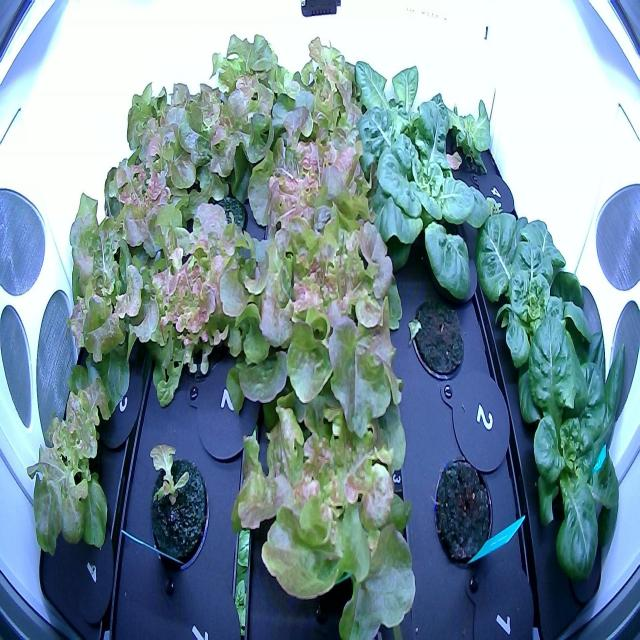pod: (425, 447, 500, 581), (405, 287, 474, 391)
young: (506, 298, 633, 600), (354, 102, 494, 318), (470, 191, 598, 375), (341, 39, 453, 173), (438, 76, 502, 179)
